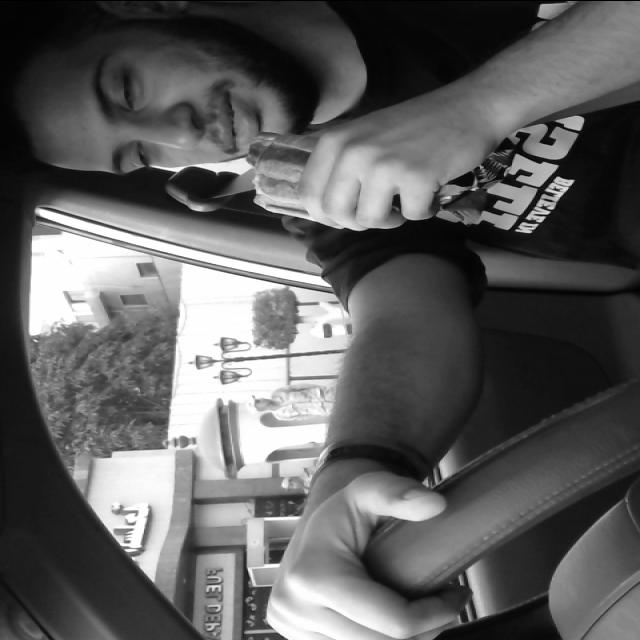eating: (244, 130, 476, 228)
